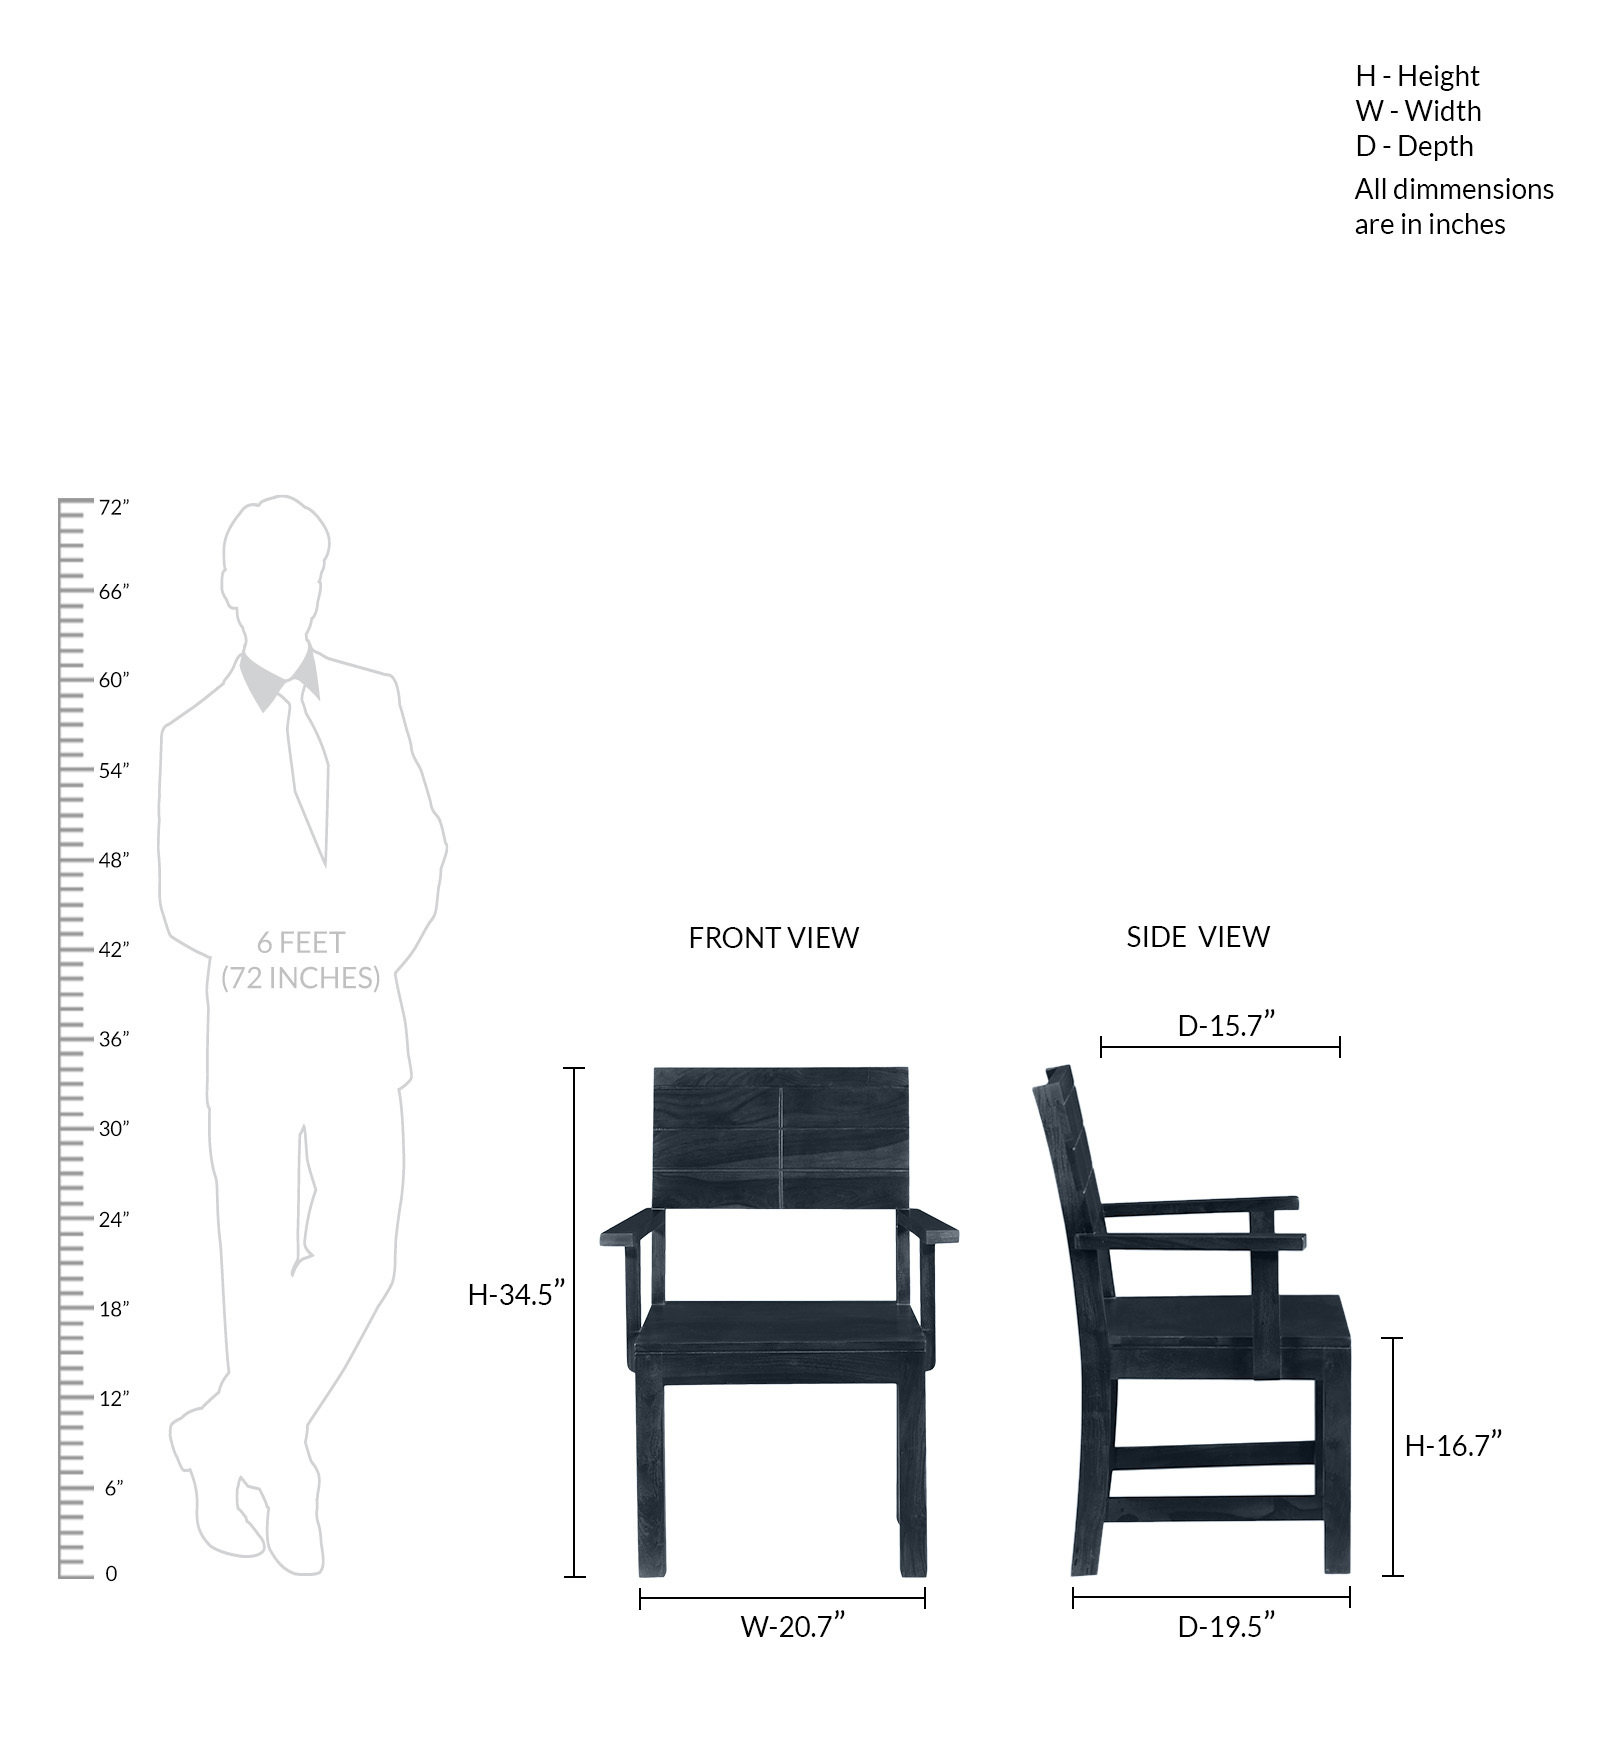Segur Arm Chair in Warm Chestnut Finish by Woodsworth: (592, 1052, 979, 1591), (1011, 1052, 1372, 1578)
